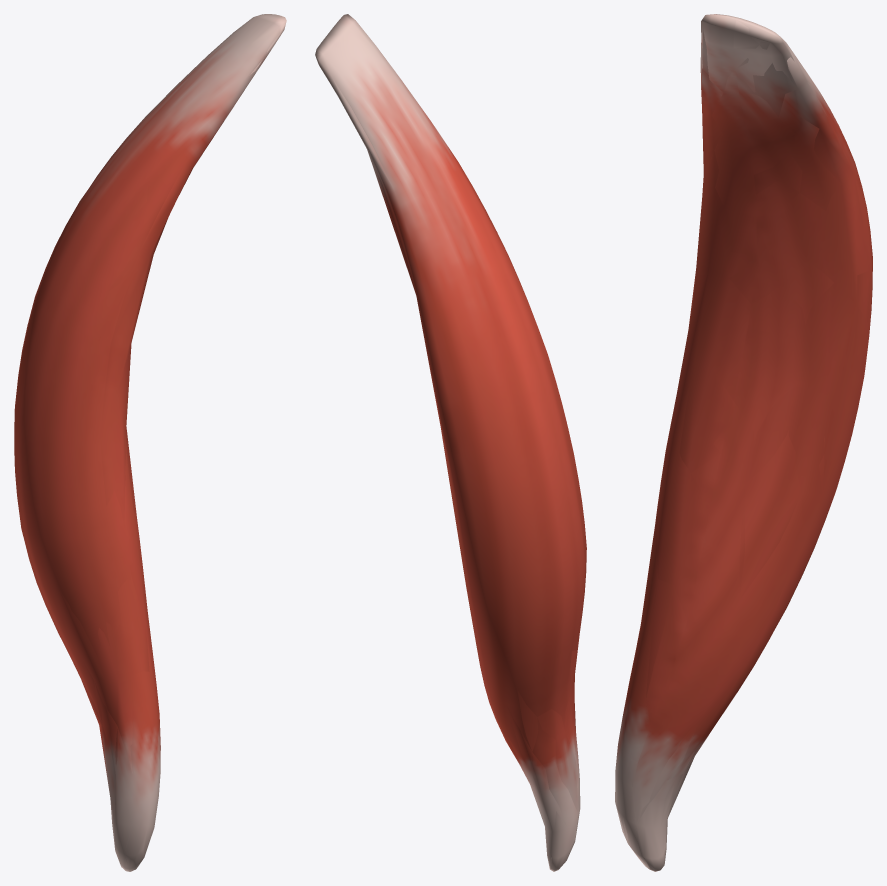
File: R Semitendinosus.fbx
3 renders of one model, left to right at view 1: azimuth 30°, elevation 25°; view 2: azimuth 150°, elevation 25°; view 3: azimuth 270°, elevation 25°, orthographic. The views are drawn at different scales.
Parts seen in each view (by area): view 1: R Semitendinosus, R Semitendinosus low; view 2: R Semitendinosus, R Semitendinosus low; view 3: R Semitendinosus, R Semitendinosus low.
Part boxes in pixels (x1=…): R Semitendinosus: x1=14, y1=14, x2=286, y2=871; R Semitendinosus low: x1=59, y1=20, x2=286, y2=870; R Semitendinosus: x1=315, y1=14, x2=586, y2=871; R Semitendinosus low: x1=315, y1=14, x2=582, y2=871; R Semitendinosus: x1=615, y1=14, x2=872, y2=871; R Semitendinosus low: x1=623, y1=14, x2=871, y2=861.
Bounding box in the file's own units: 9.16 × 28.9 × 7.02.
